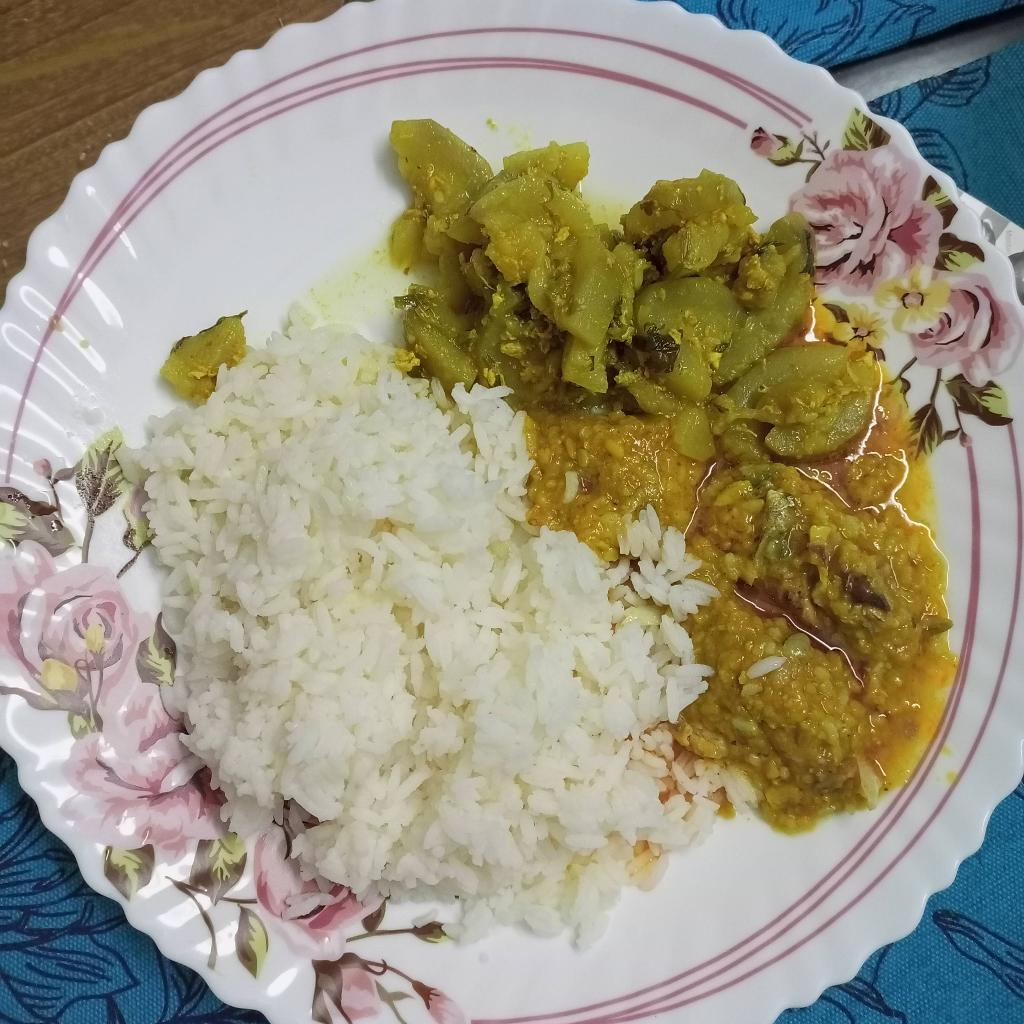daal: (542, 383, 959, 831)
lau: (390, 119, 883, 453)
rice: (134, 324, 708, 939)
